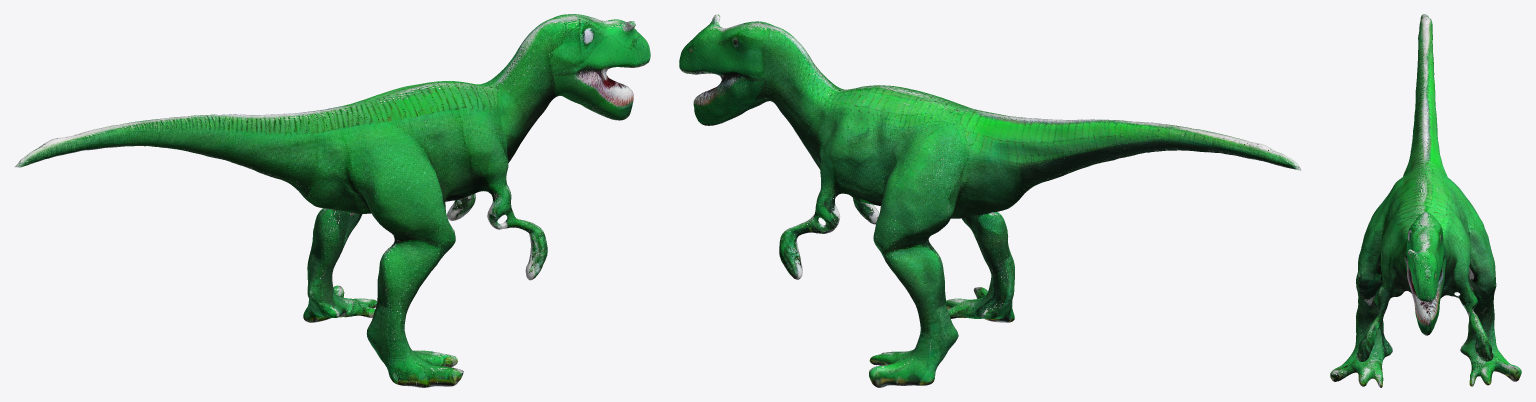
Rendered from textured_syncmvd.glb.
3 views of the same model, side by side, from view 1: azimuth 30°, elevation 25°; view 2: azimuth 150°, elevation 25°; view 3: azimuth 270°, elevation 25° (orthographic). The views are drawn at different scales.
Parts seen in each view (by area): view 1: Node; view 2: Node; view 3: Node.
Boxes of the visible parts, left/top/right/bottom form: Node: left=14, top=14, right=650, bottom=387; Node: left=679, top=14, right=1301, bottom=387; Node: left=1330, top=14, right=1521, bottom=387.
Bounding box in the file's own units: 2 × 0.8734 × 0.653.
1 material, 1 textured.
